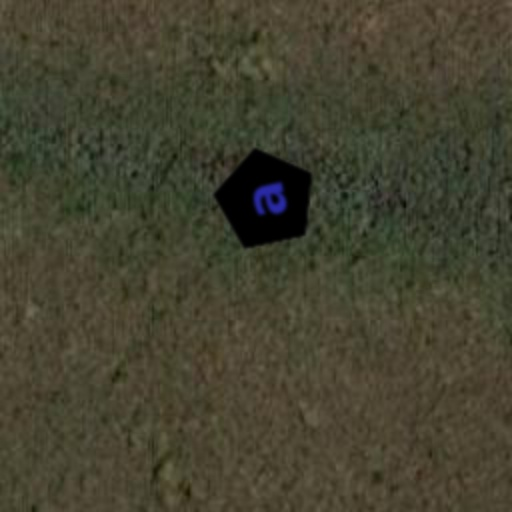pentagon: (200, 134, 332, 266)
